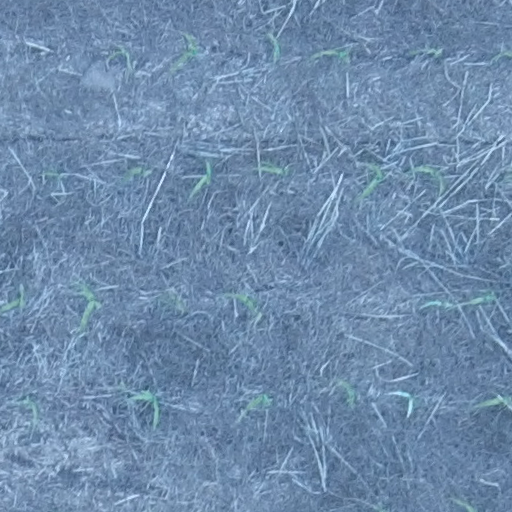planta: (405, 164, 447, 197), (129, 388, 161, 427), (77, 281, 99, 333), (171, 31, 198, 73), (358, 162, 384, 199), (190, 158, 212, 194), (223, 291, 258, 312), (334, 378, 357, 409), (107, 46, 133, 71), (308, 47, 350, 62), (255, 160, 289, 176), (244, 392, 270, 412), (468, 289, 496, 307), (265, 31, 281, 61), (122, 166, 147, 181)
